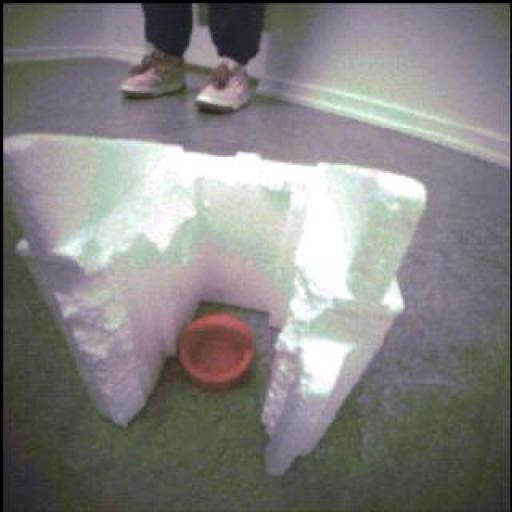Bucket: (181, 315, 256, 392)
